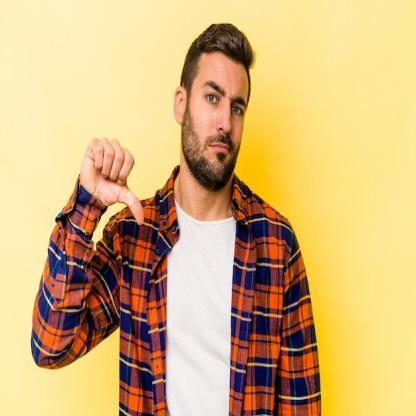thumb_down: (80, 133, 146, 228)
